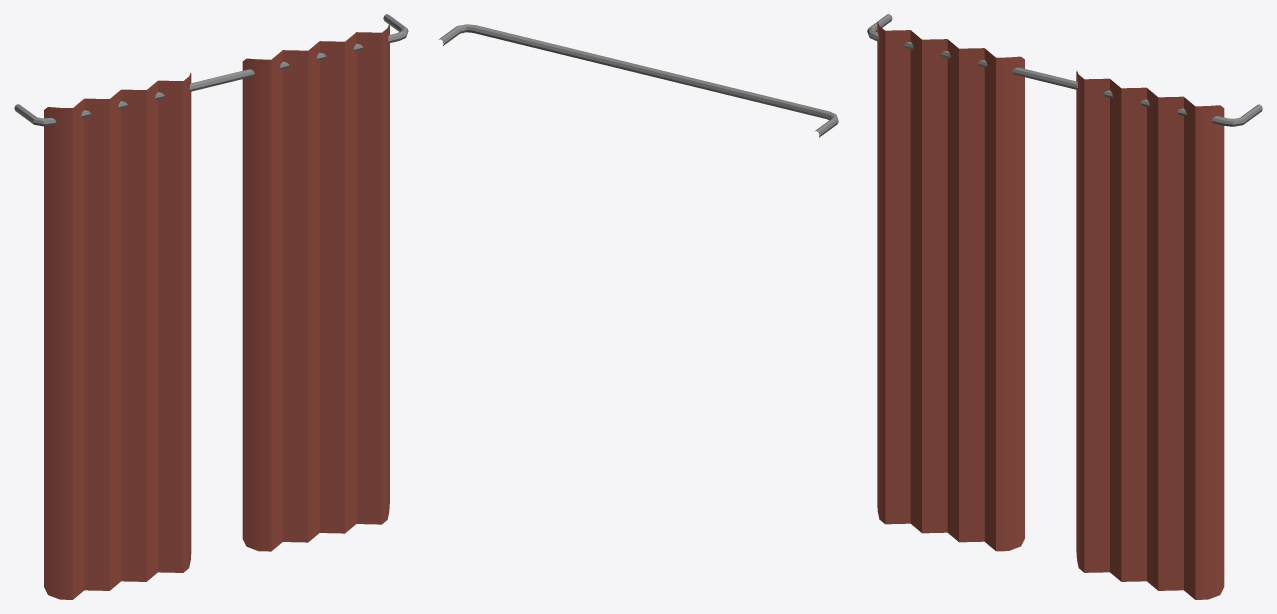
The model's file is zaslona-BNgpT1yM.glb.
The picture shows the model from 3 angles, left to right: view 1: azimuth 30°, elevation 25°; view 2: azimuth 150°, elevation 25°; view 3: azimuth 330°, elevation 25°; orthographic projection.
Visible parts, largest first — view 1: Curtains_Double; view 2: Curtains_Double; view 3: Curtains_Double.
Part boxes in pixels (left/top/right/bottom): Curtains_Double: left=14, top=14, right=408, bottom=599; Curtains_Double: left=438, top=24, right=838, bottom=137; Curtains_Double: left=867, top=14, right=1262, bottom=599.
Size of the model in its own units: 3.47 by 4.34 by 0.4765.
